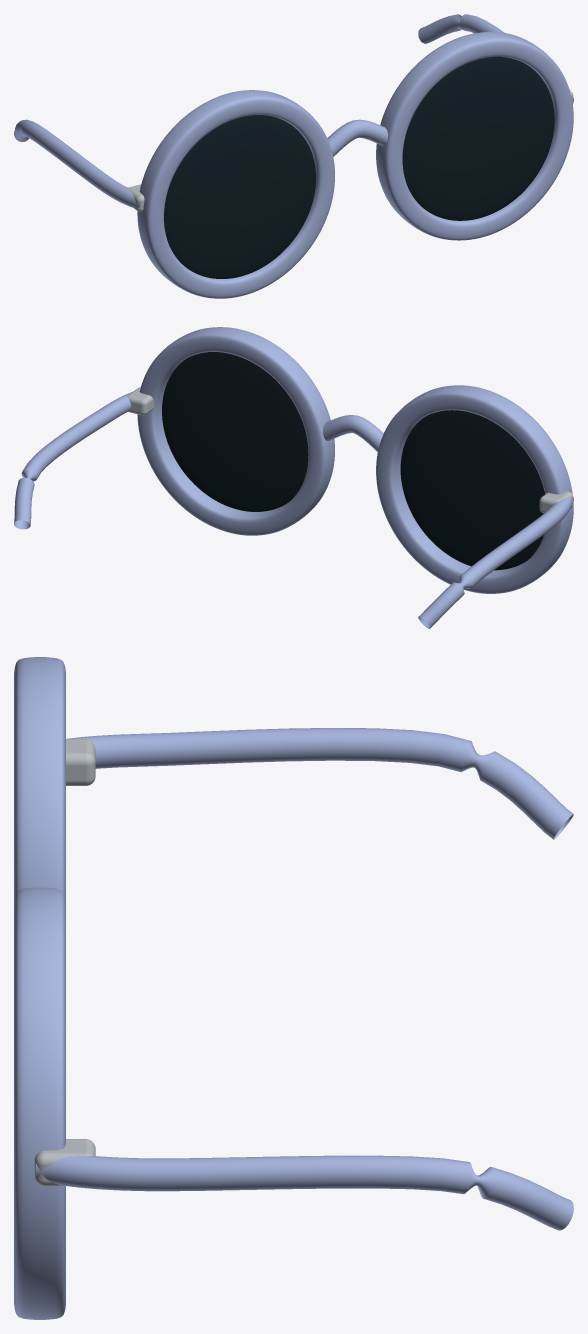
The model's file is folding-sunglasses.glb.
The picture shows the model from 3 angles, top to bottom: view 1: azimuth 30°, elevation 25°; view 2: azimuth 150°, elevation 25°; view 3: azimuth 270°, elevation 25°; orthographic projection. The views are drawn at different scales.
Visible parts, largest first — view 1: machined-annular-ring (×2), tinted-optical-lenses-005, tinted-optical-lenses-004, left-folding-temple-006, right-folding-temple-008, front-acetate-frame-003; view 2: machined-annular-ring (×2), tinted-optical-lenses-005, tinted-optical-lenses-004, left-folding-temple-006, right-folding-temple-008, front-acetate-frame-003, right-folding-temple-009, left-folding-temple-007; view 3: machined-annular-ring (×2), right-folding-temple-008, left-folding-temple-006, left-folding-temple-007, right-folding-temple-009.
Part boxes in pixels (x1,y1,x2,y2): machined-annular-ring (×2): (137,32,573,298); tinted-optical-lenses-005: (402,56,554,220); tinted-optical-lenses-004: (164,115,315,278); left-folding-temple-006: (14,119,139,208); right-folding-temple-008: (418,14,573,102); front-acetate-frame-003: (327,119,387,156); machined-annular-ring (×2): (137,327,573,593); tinted-optical-lenses-005: (162,352,308,511); tinted-optical-lenses-004: (400,410,545,570); left-folding-temple-006: (418,497,573,628); right-folding-temple-008: (14,392,131,529); front-acetate-frame-003: (323,415,383,451); right-folding-temple-009: (127,387,154,415); left-folding-temple-007: (539,491,573,513); machined-annular-ring (×2): (14,657,65,1319); right-folding-temple-008: (35,1155,573,1230); left-folding-temple-006: (67,728,573,839); left-folding-temple-007: (66,739,95,785); right-folding-temple-009: (34,1139,95,1185).
Bounding box in the file's own units: 2 × 0.8271 × 1.07.
